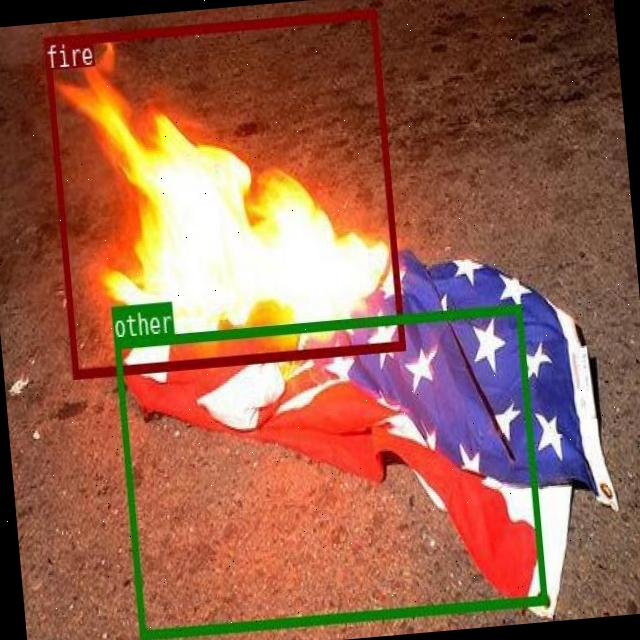fire: (42, 8, 404, 377)
